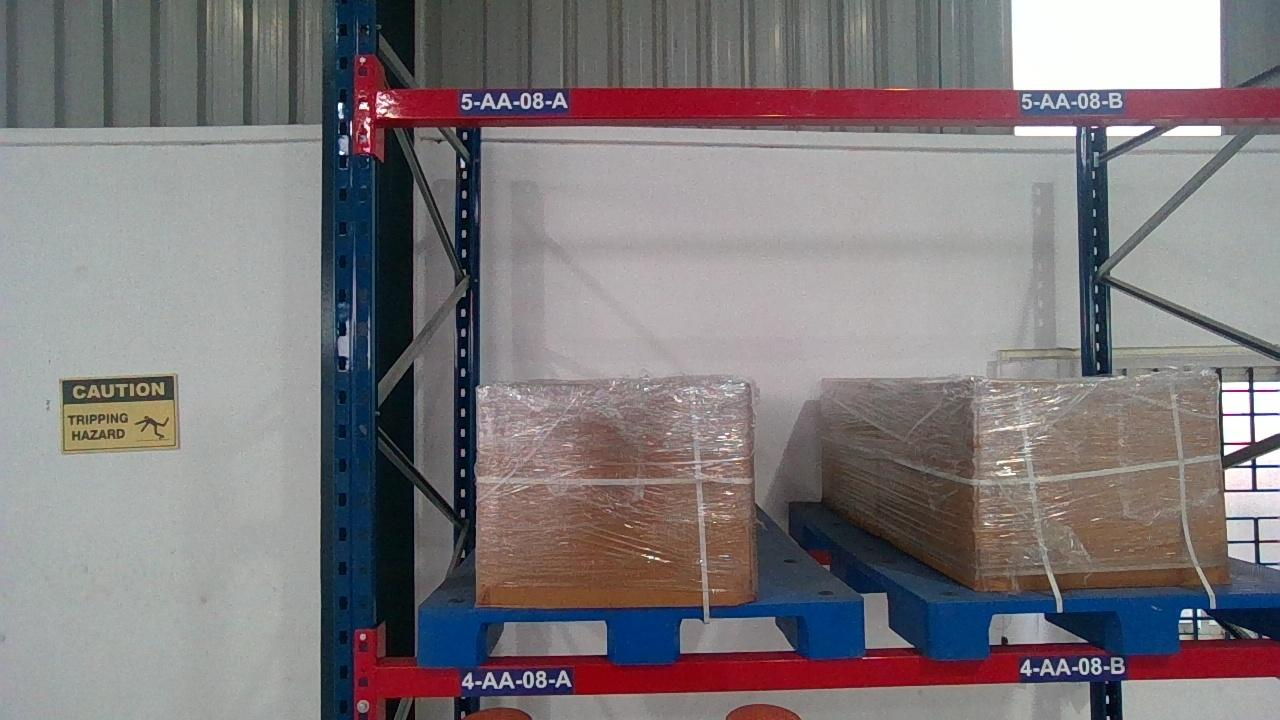h_rack: (380, 645, 1277, 697), (375, 86, 1278, 118)
small_pallet: (408, 601, 870, 660), (929, 594, 1279, 651)
